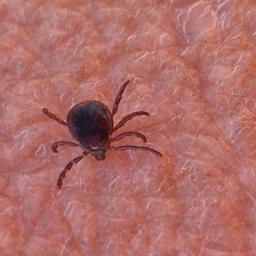Rhipicephalus sanguineus: (42, 80, 162, 189)
